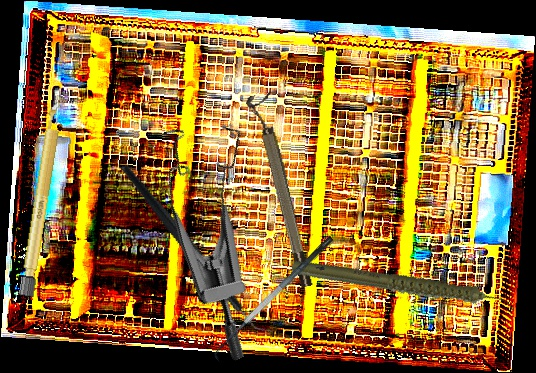Chopper: (120, 137, 274, 362)
Fixation Ring: (245, 91, 316, 291)
Handpiece: (288, 215, 518, 360)
Scalpel Handle: (18, 98, 66, 300)
Spatula Surgical: (206, 235, 345, 365)
Speculum: (120, 100, 335, 364)
